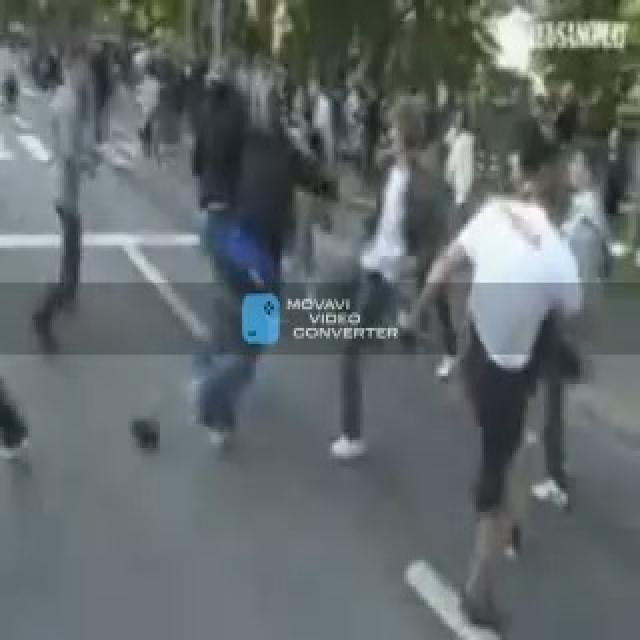non-voilence: (0, 11, 636, 637), (398, 120, 586, 637), (30, 42, 102, 346), (402, 555, 502, 637)
